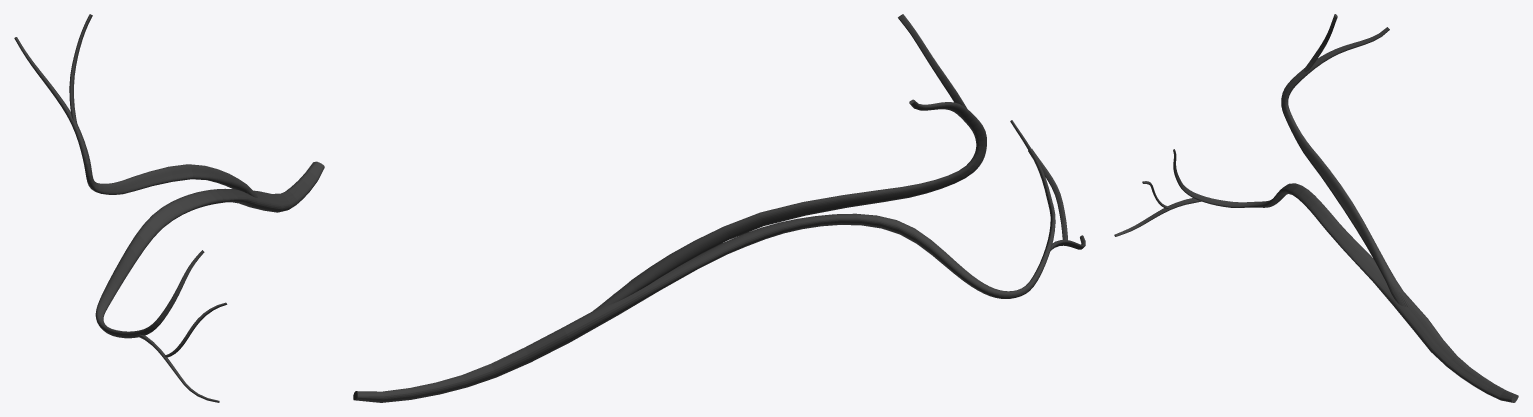
The model's file is N_5_trigeminus_ophthalmic_frontal.glb.
3 views of the same model, side by side, from view 1: azimuth 30°, elevation 25°; view 2: azimuth 150°, elevation 25°; view 3: azimuth 270°, elevation 25° (orthographic). The views are drawn at different scales.
Visible parts, largest first — view 1: N_5_trigeminus_ophthalmic_frontal; view 2: N_5_trigeminus_ophthalmic_frontal; view 3: N_5_trigeminus_ophthalmic_frontal.
Boxes of the visible parts, x1,y1,x2,y2 form: N_5_trigeminus_ophthalmic_frontal: (14, 14, 324, 402); N_5_trigeminus_ophthalmic_frontal: (353, 14, 1085, 402); N_5_trigeminus_ophthalmic_frontal: (1114, 14, 1518, 402).
Bounding box in the file's own units: 0.0206 × 0.0164 × 0.0233.
1 material, 1 textured.
